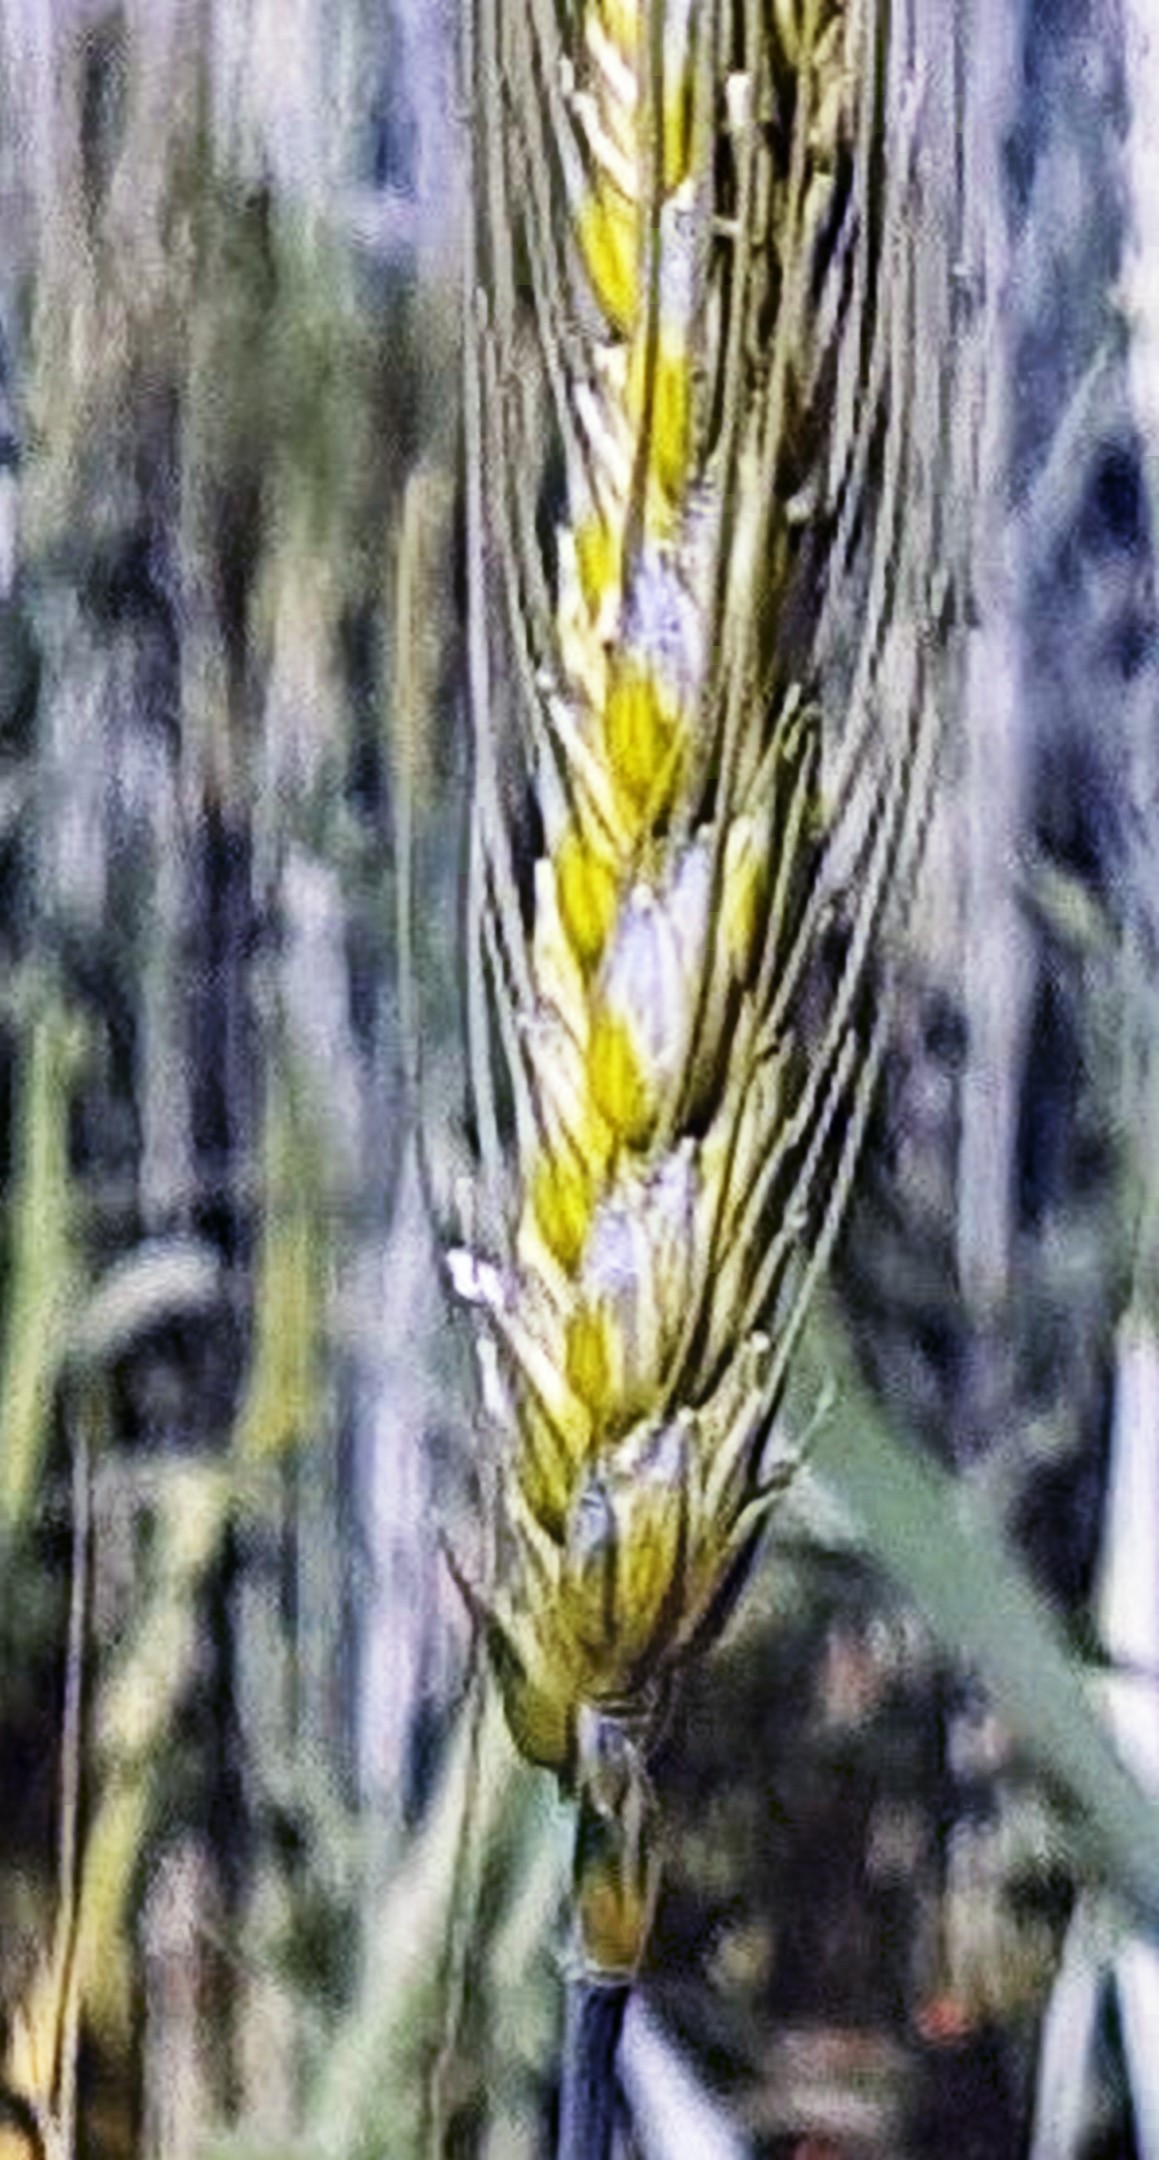Healthy Wheat: (404, 1, 963, 1841)
